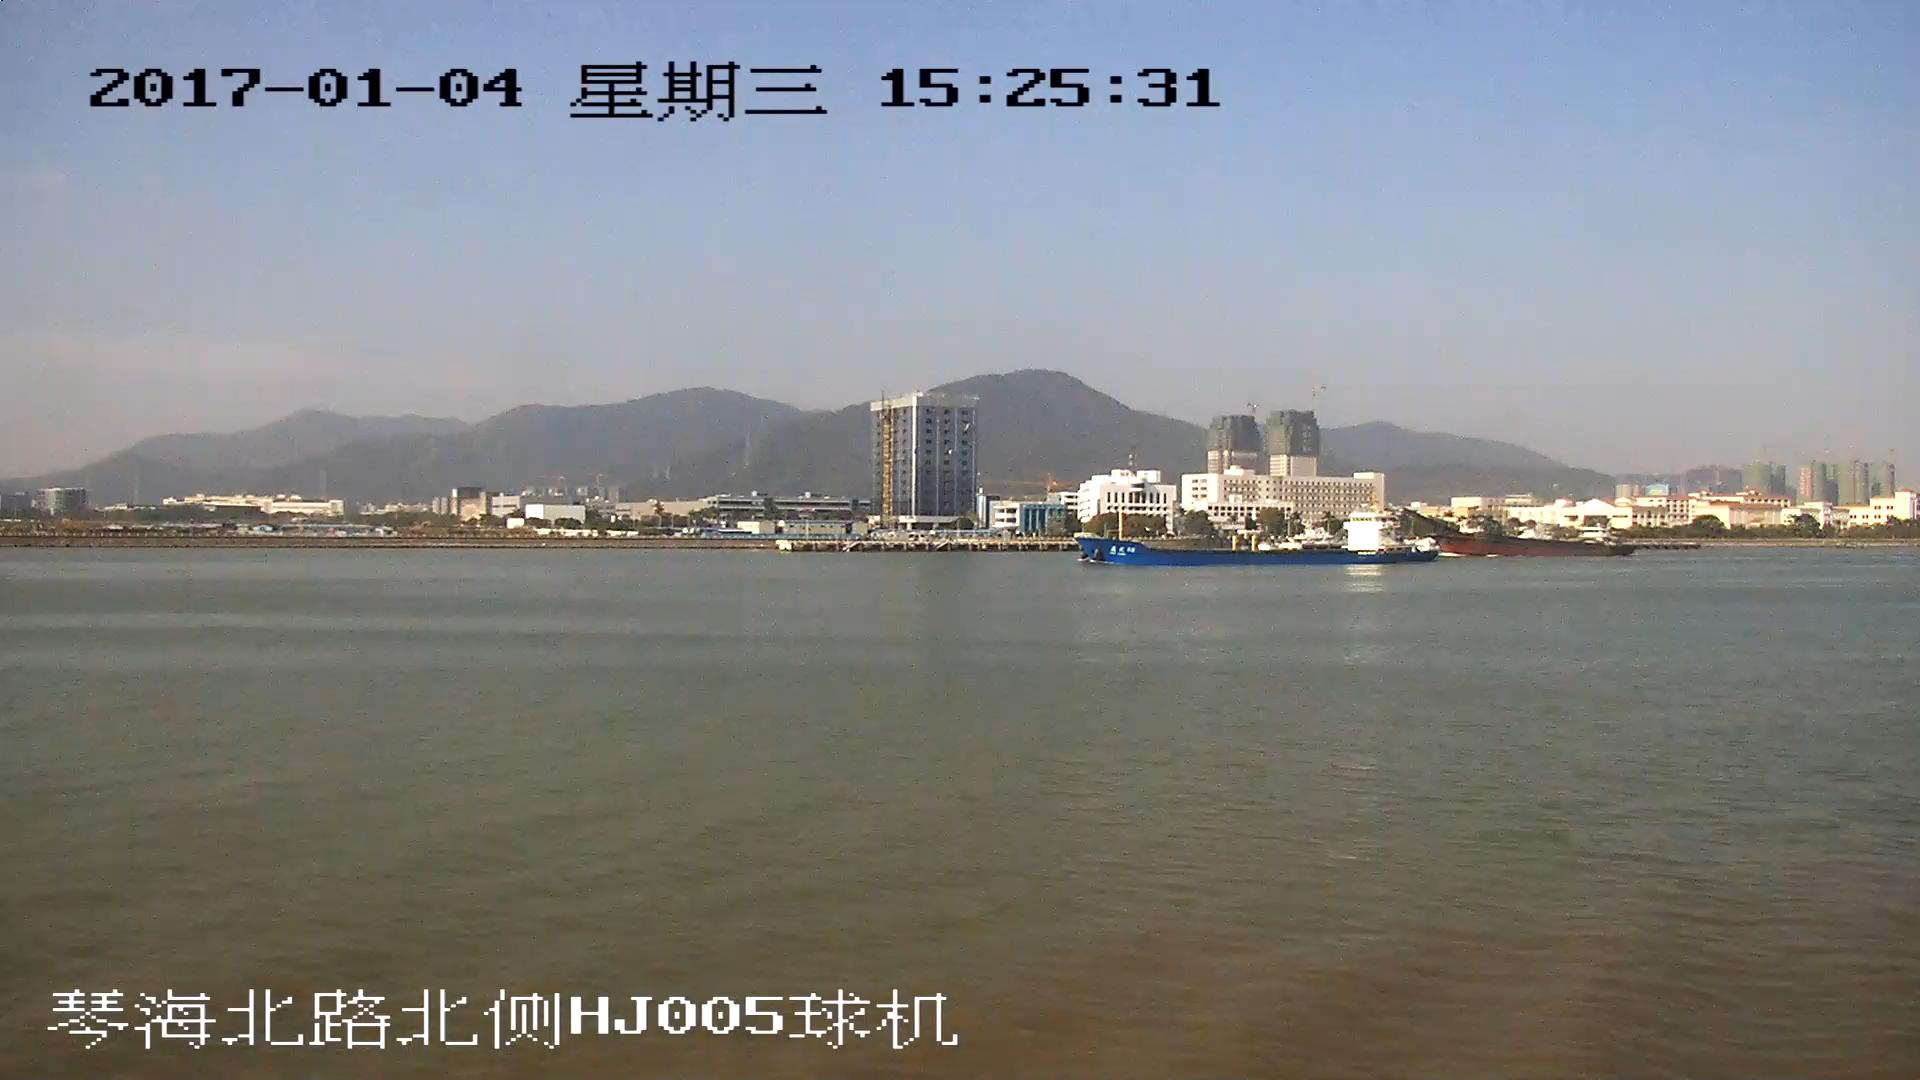bulk cargo carrier: (1413, 513, 1629, 560)
general cargo ship: (1083, 510, 1417, 567)
